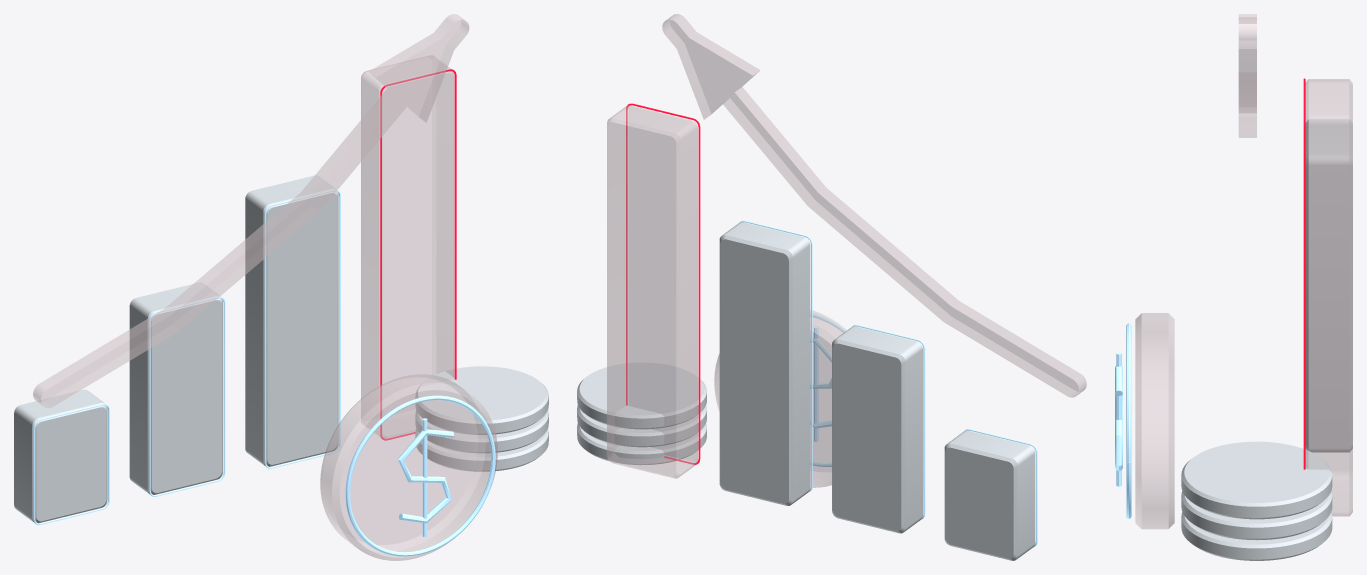
File: 05-financial-analytics.glb
3 renders of one model, left to right at view 1: azimuth 30°, elevation 25°; view 2: azimuth 150°, elevation 25°; view 3: azimuth 270°, elevation 25°, orthographic. The views are drawn at different scales.
Visible parts, largest first — view 1: BC thin clear technical glass, BC subtle ruby technical glass, BC cool glass edge, BC ruby signal edge; view 2: BC thin clear technical glass, BC subtle ruby technical glass, BC cool glass edge, BC ruby signal edge; view 3: BC thin clear technical glass, BC subtle ruby technical glass, BC cool glass edge, BC ruby signal edge.
Part boxes in pixels (x1,y1,x2,y2): BC thin clear technical glass: [14, 175, 548, 523]; BC subtle ruby technical glass: [33, 14, 497, 560]; BC cool glass edge: [33, 189, 495, 556]; BC ruby signal edge: [380, 69, 456, 440]; BC thin clear technical glass: [577, 222, 1035, 560]; BC subtle ruby technical glass: [607, 14, 1086, 487]; BC cool glass edge: [740, 220, 1037, 546]; BC ruby signal edge: [626, 103, 700, 464]; BC thin clear technical glass: [1181, 119, 1352, 560]; BC subtle ruby technical glass: [1135, 14, 1352, 529]; BC cool glass edge: [1115, 323, 1131, 518]; BC ruby signal edge: [1303, 78, 1305, 469].
Bounding box in the file's own units: 2.02 × 1.85 × 0.7246.
